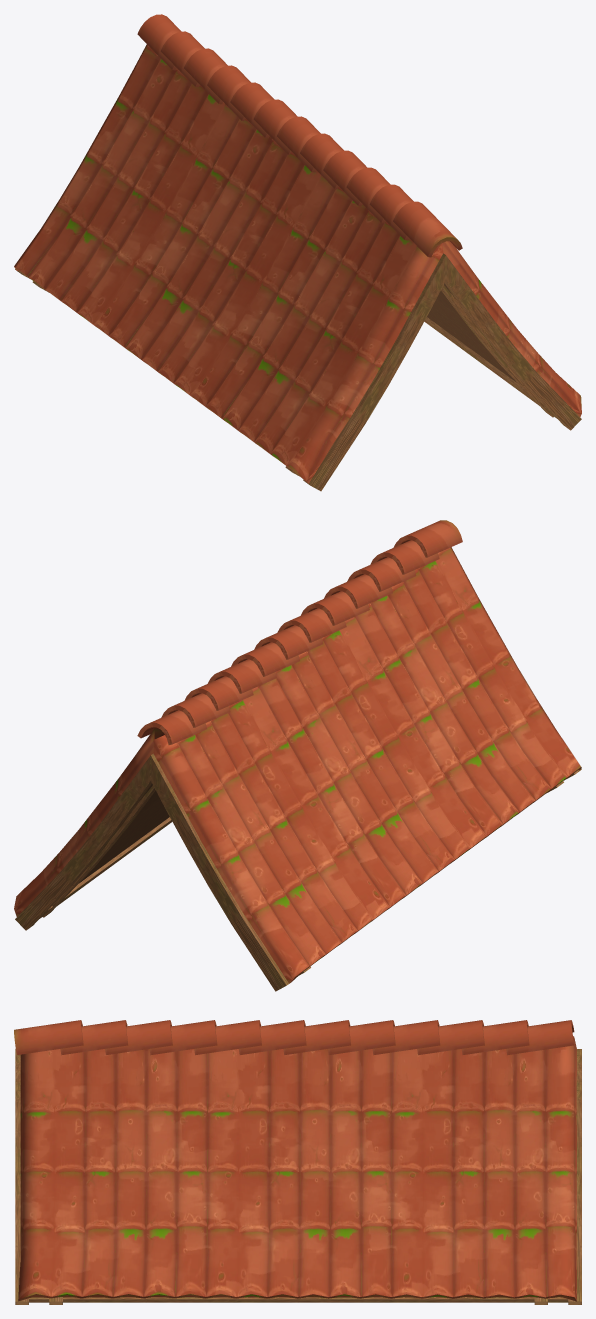
The model's file is Roof_RoundTiles_4x8.glb.
3 views of the same model, one above another, from view 1: azimuth 30°, elevation 25°; view 2: azimuth 150°, elevation 25°; view 3: azimuth 270°, elevation 25° (orthographic). The views are drawn at different scales.
Parts seen in each view (by area): view 1: Roof_RoundTiles_4x8; view 2: Roof_RoundTiles_4x8; view 3: Roof_RoundTiles_4x8.
Boxes of the visible parts, x1,y1,x2,y2 form: Roof_RoundTiles_4x8: (14, 14, 581, 491); Roof_RoundTiles_4x8: (14, 520, 581, 991); Roof_RoundTiles_4x8: (14, 1020, 581, 1304).
Bounding box in the file's own units: 5.51 × 4.23 × 9.68.
Materials: 2 (2 with a texture image).
